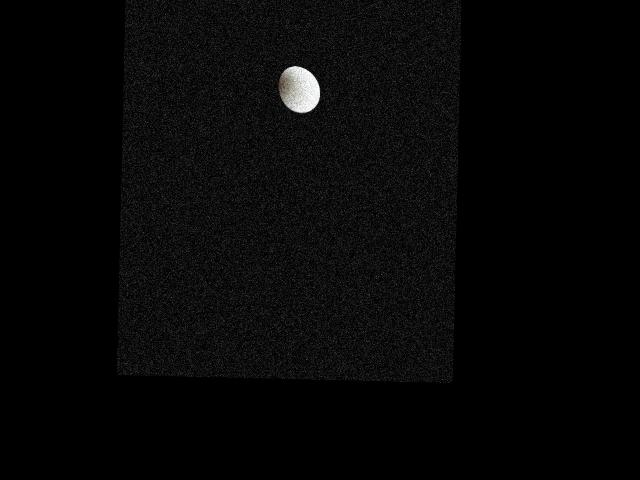egg: (278, 65, 320, 112)
